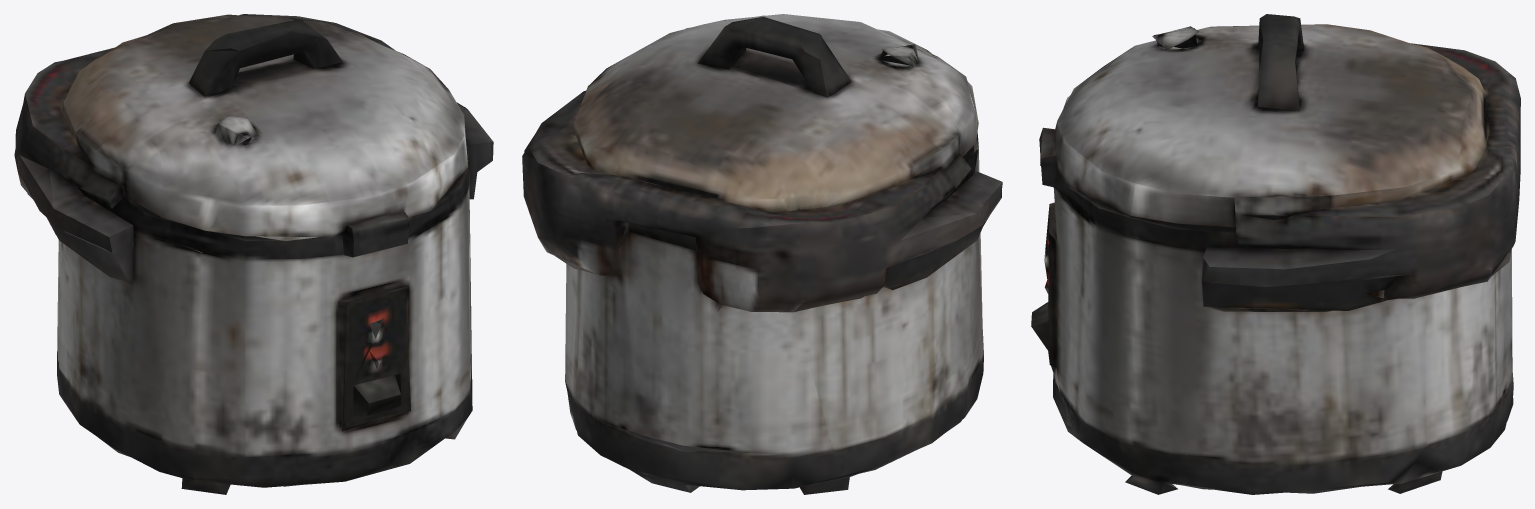
Rendered from p7-rice-cooker.glb.
3 views of the same model, side by side, from view 1: azimuth 30°, elevation 25°; view 2: azimuth 150°, elevation 25°; view 3: azimuth 270°, elevation 25° (orthographic). The views are drawn at different scales.
Parts seen in each view (by area): view 1: p7-rice-cooker; view 2: p7-rice-cooker; view 3: p7-rice-cooker.
Part boxes in pixels (bbox=[...]): p7-rice-cooker: bbox=[14, 14, 493, 494]; p7-rice-cooker: bbox=[522, 14, 1002, 494]; p7-rice-cooker: bbox=[1031, 14, 1520, 494].
Size of the model in its own units: 0.45 by 0.4 by 0.45.
Materials: 1 (1 with a texture image).
